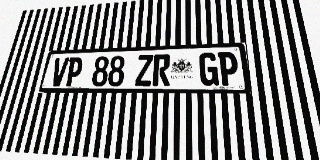8: (107, 55, 126, 86), (91, 56, 110, 86)
G: (199, 52, 219, 86)
P: (218, 52, 239, 86), (64, 57, 84, 86)
R: (152, 54, 170, 86)
V: (49, 57, 69, 86)
Z: (135, 54, 153, 86)
